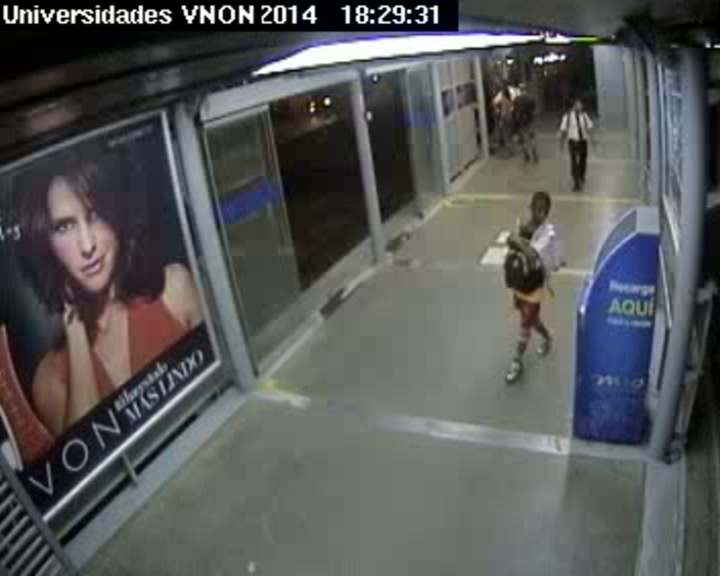person: (528, 189, 556, 222), (570, 97, 585, 113), (501, 75, 516, 90), (516, 80, 530, 96)
